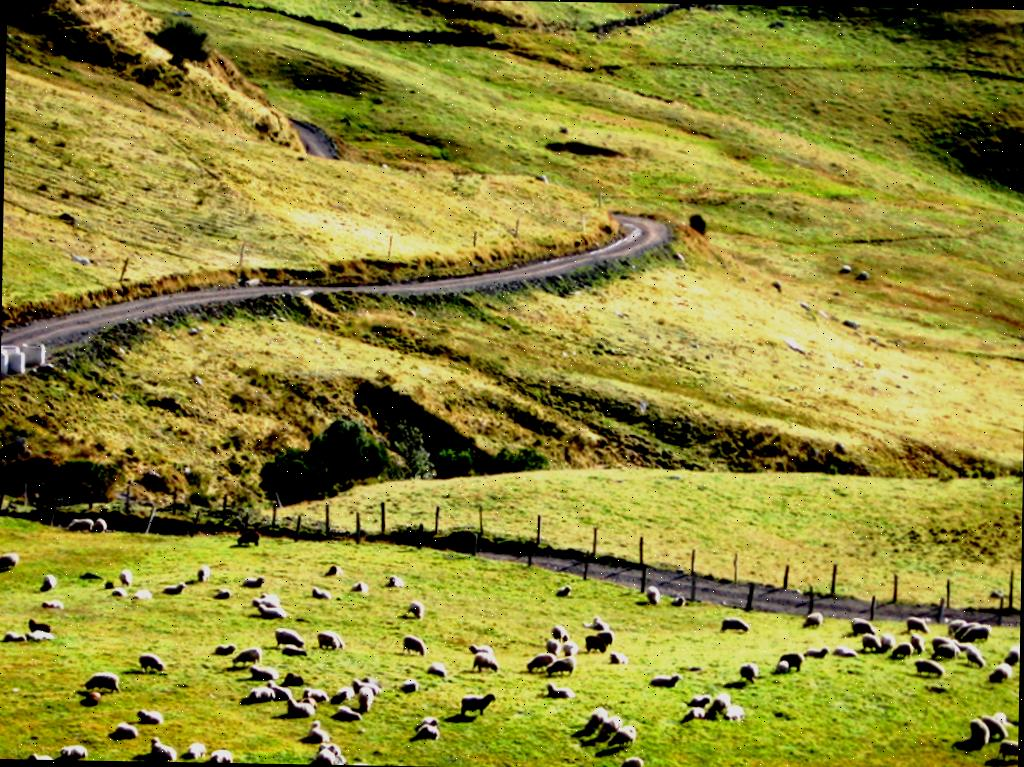Sheep: (455, 678, 510, 724), (126, 648, 180, 680), (82, 669, 123, 694), (272, 624, 306, 650), (584, 706, 609, 740), (647, 668, 685, 690), (912, 654, 944, 680), (146, 735, 178, 760), (524, 648, 556, 672), (926, 640, 958, 664), (252, 600, 290, 620), (967, 716, 990, 748), (283, 696, 315, 719), (314, 628, 346, 651), (606, 725, 641, 746), (354, 682, 375, 716), (304, 716, 332, 741), (472, 649, 500, 674), (25, 612, 54, 636), (398, 632, 427, 656), (545, 654, 576, 676), (230, 647, 264, 667), (994, 736, 1018, 764), (859, 630, 886, 654), (888, 640, 916, 663), (736, 662, 762, 686), (985, 662, 1012, 685), (776, 651, 804, 672), (58, 742, 90, 760), (719, 616, 755, 632), (960, 624, 992, 642), (582, 632, 608, 654), (804, 641, 830, 663), (905, 615, 930, 637), (245, 664, 279, 680), (964, 646, 986, 670), (134, 706, 166, 722), (235, 530, 262, 548), (550, 623, 572, 644), (908, 630, 926, 655), (689, 688, 711, 708), (35, 596, 64, 611), (160, 578, 187, 594), (800, 612, 824, 630), (0, 550, 20, 571), (40, 571, 60, 591), (404, 599, 424, 619), (382, 573, 408, 588), (118, 567, 136, 587)
